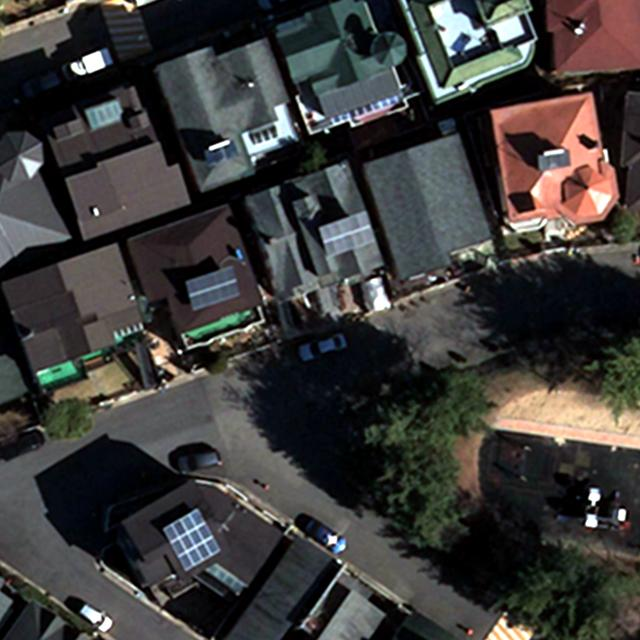panel: (162, 506, 224, 573), (318, 210, 379, 260), (185, 265, 243, 310)
